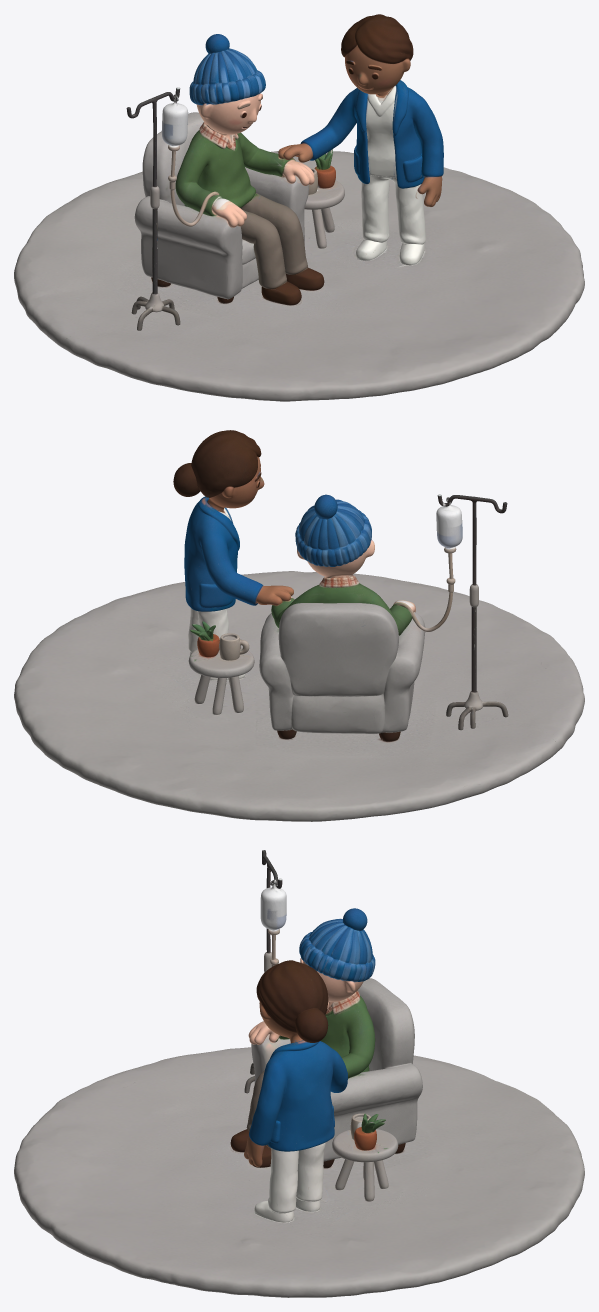
The model's file is landing.glb.
3 views of the same model, one above another, from view 1: azimuth 30°, elevation 25°; view 2: azimuth 150°, elevation 25°; view 3: azimuth 270°, elevation 25° (orthographic).
Bounding box in the file's own units: 1.9 × 0.9158 × 1.89.
Materials: 1 (1 with a texture image).
